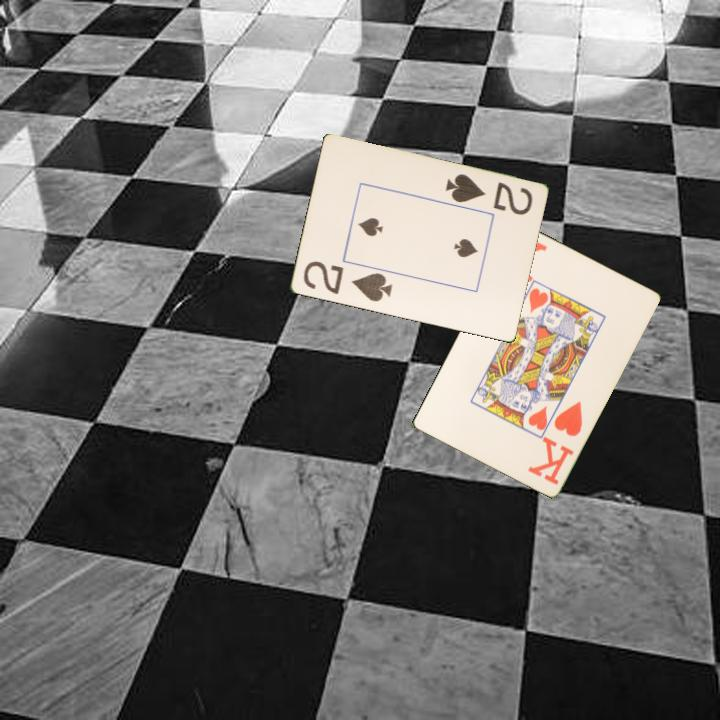2s: (299, 258, 395, 305), (441, 170, 535, 218)
Kh: (524, 397, 585, 487)
